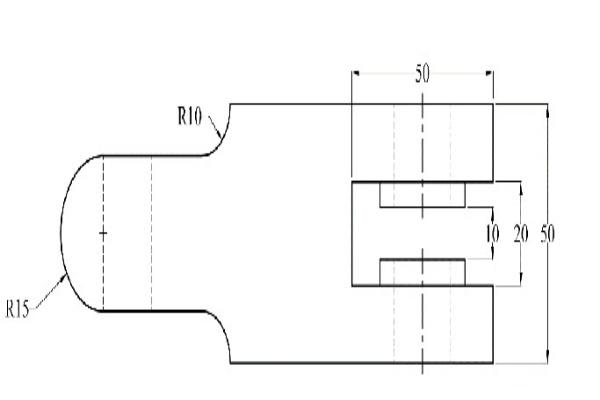dimensions: (175, 98, 206, 128), (507, 216, 533, 246), (534, 219, 557, 249), (412, 57, 434, 87), (480, 222, 505, 245)
